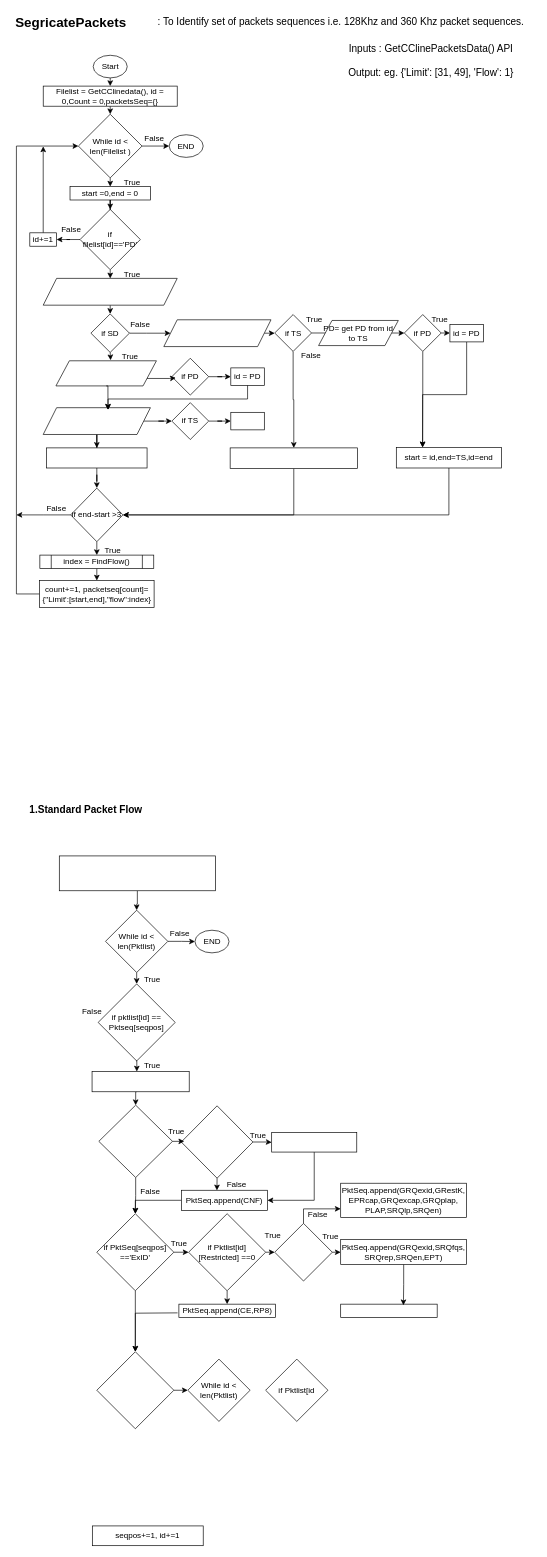
Image size: 547x1557. Some labels were removed from this diagram. Here are the shapes that lost their labels. From the top down, the box of each, then its label:
(43, 278, 177, 305): SD = get Shutdown from id to len(filelist)
(163, 319, 271, 347): TS= get TS from id to len(Filelist)
(55, 360, 156, 386): PD= get PD from id to SD
(43, 407, 150, 434): TS= get TS from id to SD
(230, 412, 264, 430): SD = TS
(46, 447, 147, 468): start = id,end=SD,id=end
(229, 447, 357, 469): start = id,end=len(Filelist),id=end
(59, 855, 215, 891): PktSeq =[PD,SS,ID] Pktlist = GetCClinepkts(),id = 0,seqpos=1
(91, 1071, 189, 1092): Get Response for the Pkt
(98, 1104, 173, 1178): if PktSeq[seqpos] =='ID'
(181, 1105, 253, 1178): if Pktlist[id][Ext] ==1
(271, 1132, 357, 1152): PktSeq.append(ExID)
(274, 1223, 332, 1281): if flow = 128
(340, 1303, 437, 1318): PktSeq.append(XCE,PLA)
(96, 1351, 174, 1429): if Pktlist[id][phase]=='PT' and PktSeq[seqpos][phase]=='PT'
